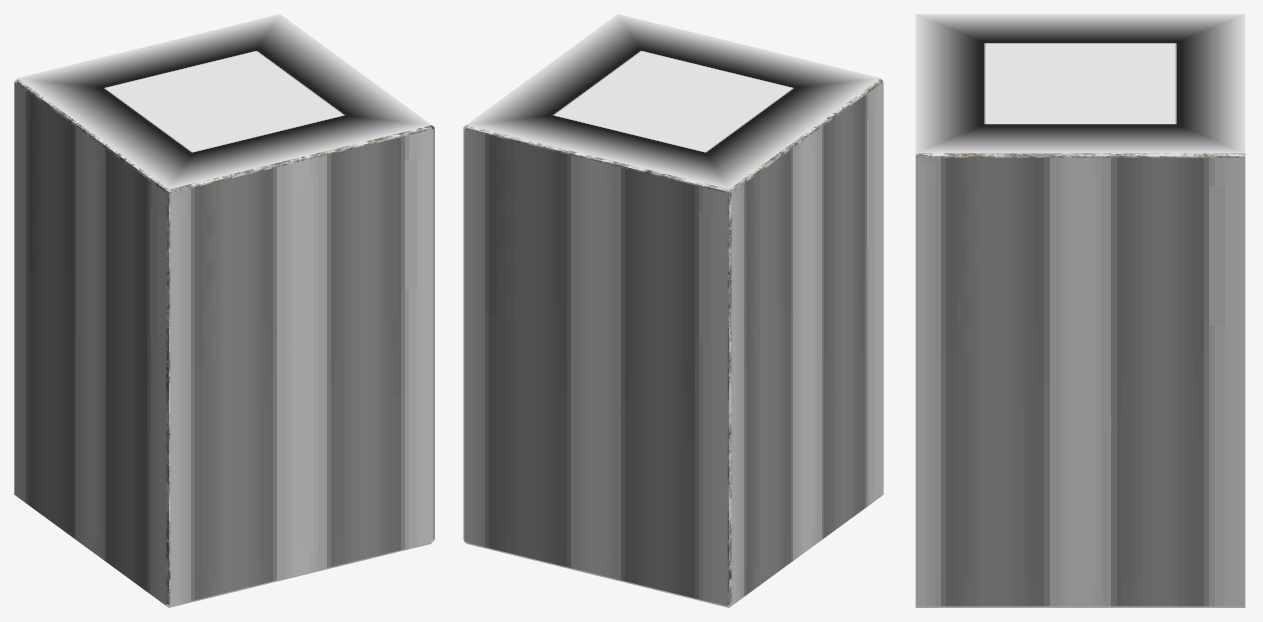
File: lifesensor.obj
The picture shows the model from 3 angles, left to right: view 1: azimuth 30°, elevation 25°; view 2: azimuth 150°, elevation 25°; view 3: azimuth 270°, elevation 25°; orthographic projection. The views are drawn at different scales.
Visible parts, largest first — view 1: Lifesensor5, Lifesensor4, Lifesensor7, Lifesensor1, Lifesensor3, Lifesensor6; view 2: Lifesensor2, Lifesensor4, Lifesensor7, Lifesensor1, Lifesensor3, Lifesensor6; view 3: Lifesensor3, Lifesensor7, Lifesensor1, Lifesensor6.
Part boxes in pixels (x1,y1,x2,y2): Lifesensor5: (170, 129, 433, 606); Lifesensor4: (14, 82, 166, 605); Lifesensor7: (17, 14, 431, 189); Lifesensor1: (17, 80, 431, 604); Lifesensor3: (429, 125, 434, 539); Lifesensor6: (18, 497, 431, 607); Lifesensor2: (464, 129, 727, 606); Lifesensor4: (731, 82, 883, 605); Lifesensor7: (466, 14, 880, 189); Lifesensor1: (466, 80, 880, 604); Lifesensor3: (463, 125, 468, 539); Lifesensor6: (466, 497, 879, 607); Lifesensor3: (915, 157, 1245, 606); Lifesensor7: (915, 14, 1245, 153); Lifesensor1: (915, 153, 1245, 157); Lifesensor6: (915, 606, 1245, 607).
Bounding box in the file's own units: 2.04 × 3.04 × 2.04.
Materials: 4 (4 with a texture image).
